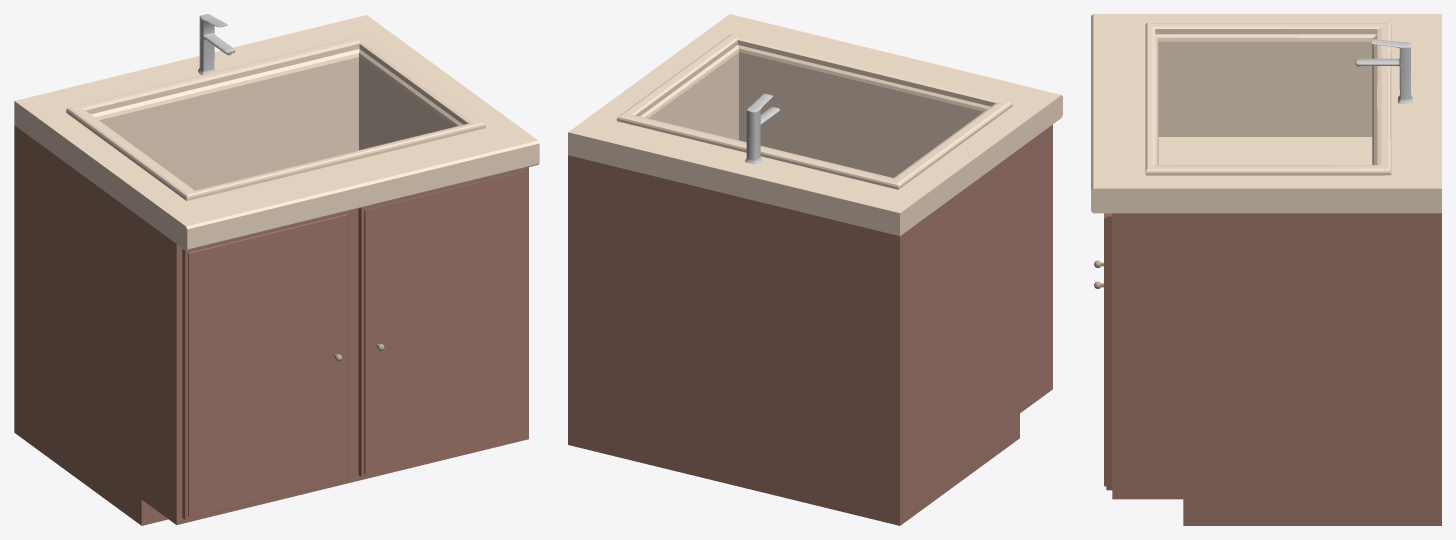
Rendered from CabinetWithSink.glb.
The picture shows the model from 3 angles, left to right: view 1: azimuth 30°, elevation 25°; view 2: azimuth 150°, elevation 25°; view 3: azimuth 270°, elevation 25°; orthographic projection. The views are drawn at different scales.
Parts seen in each view (by area): view 1: Cabinet with Sink; view 2: Cabinet with Sink; view 3: Cabinet with Sink.
Boxes of the visible parts, <box> form: Cabinet with Sink: <box>14,14,539,525</box>; Cabinet with Sink: <box>568,14,1062,525</box>; Cabinet with Sink: <box>1091,14,1441,525</box>.
Bounding box in the file's own units: 1 × 1.06 × 0.8489.
Materials: 2 (2 with a texture image).
